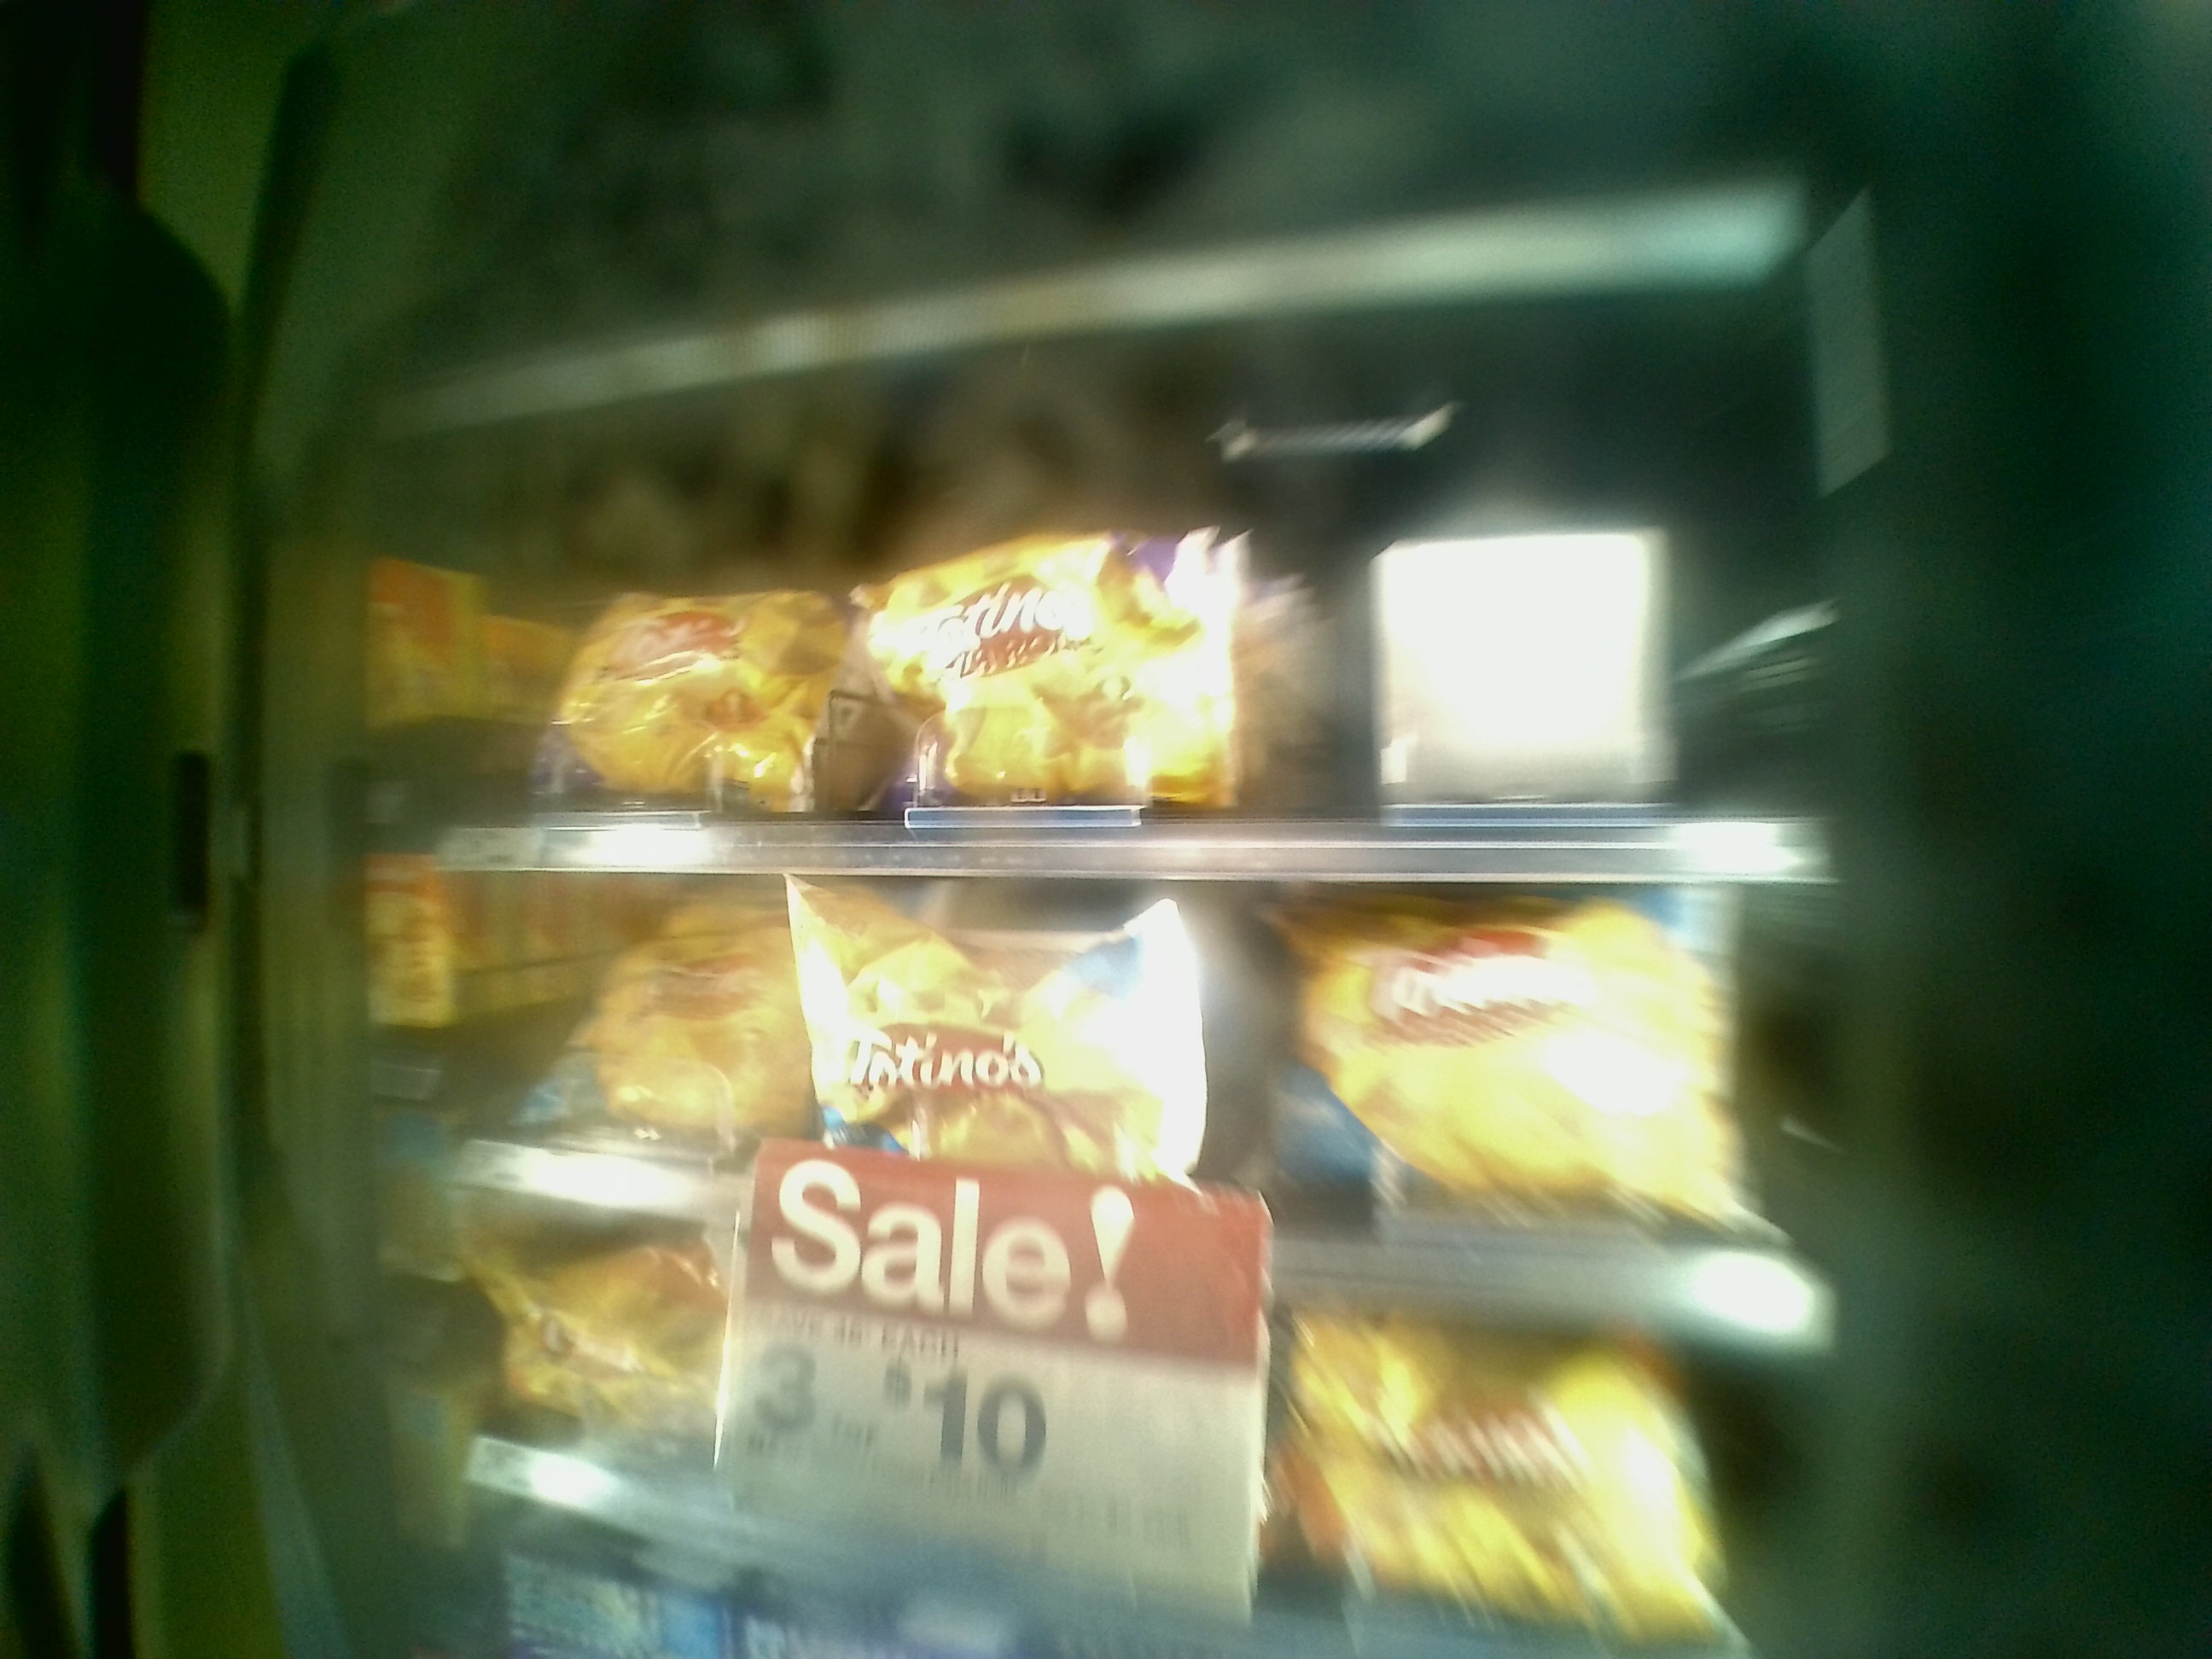shelf: (430, 861, 1804, 1281), (371, 471, 1817, 845)
